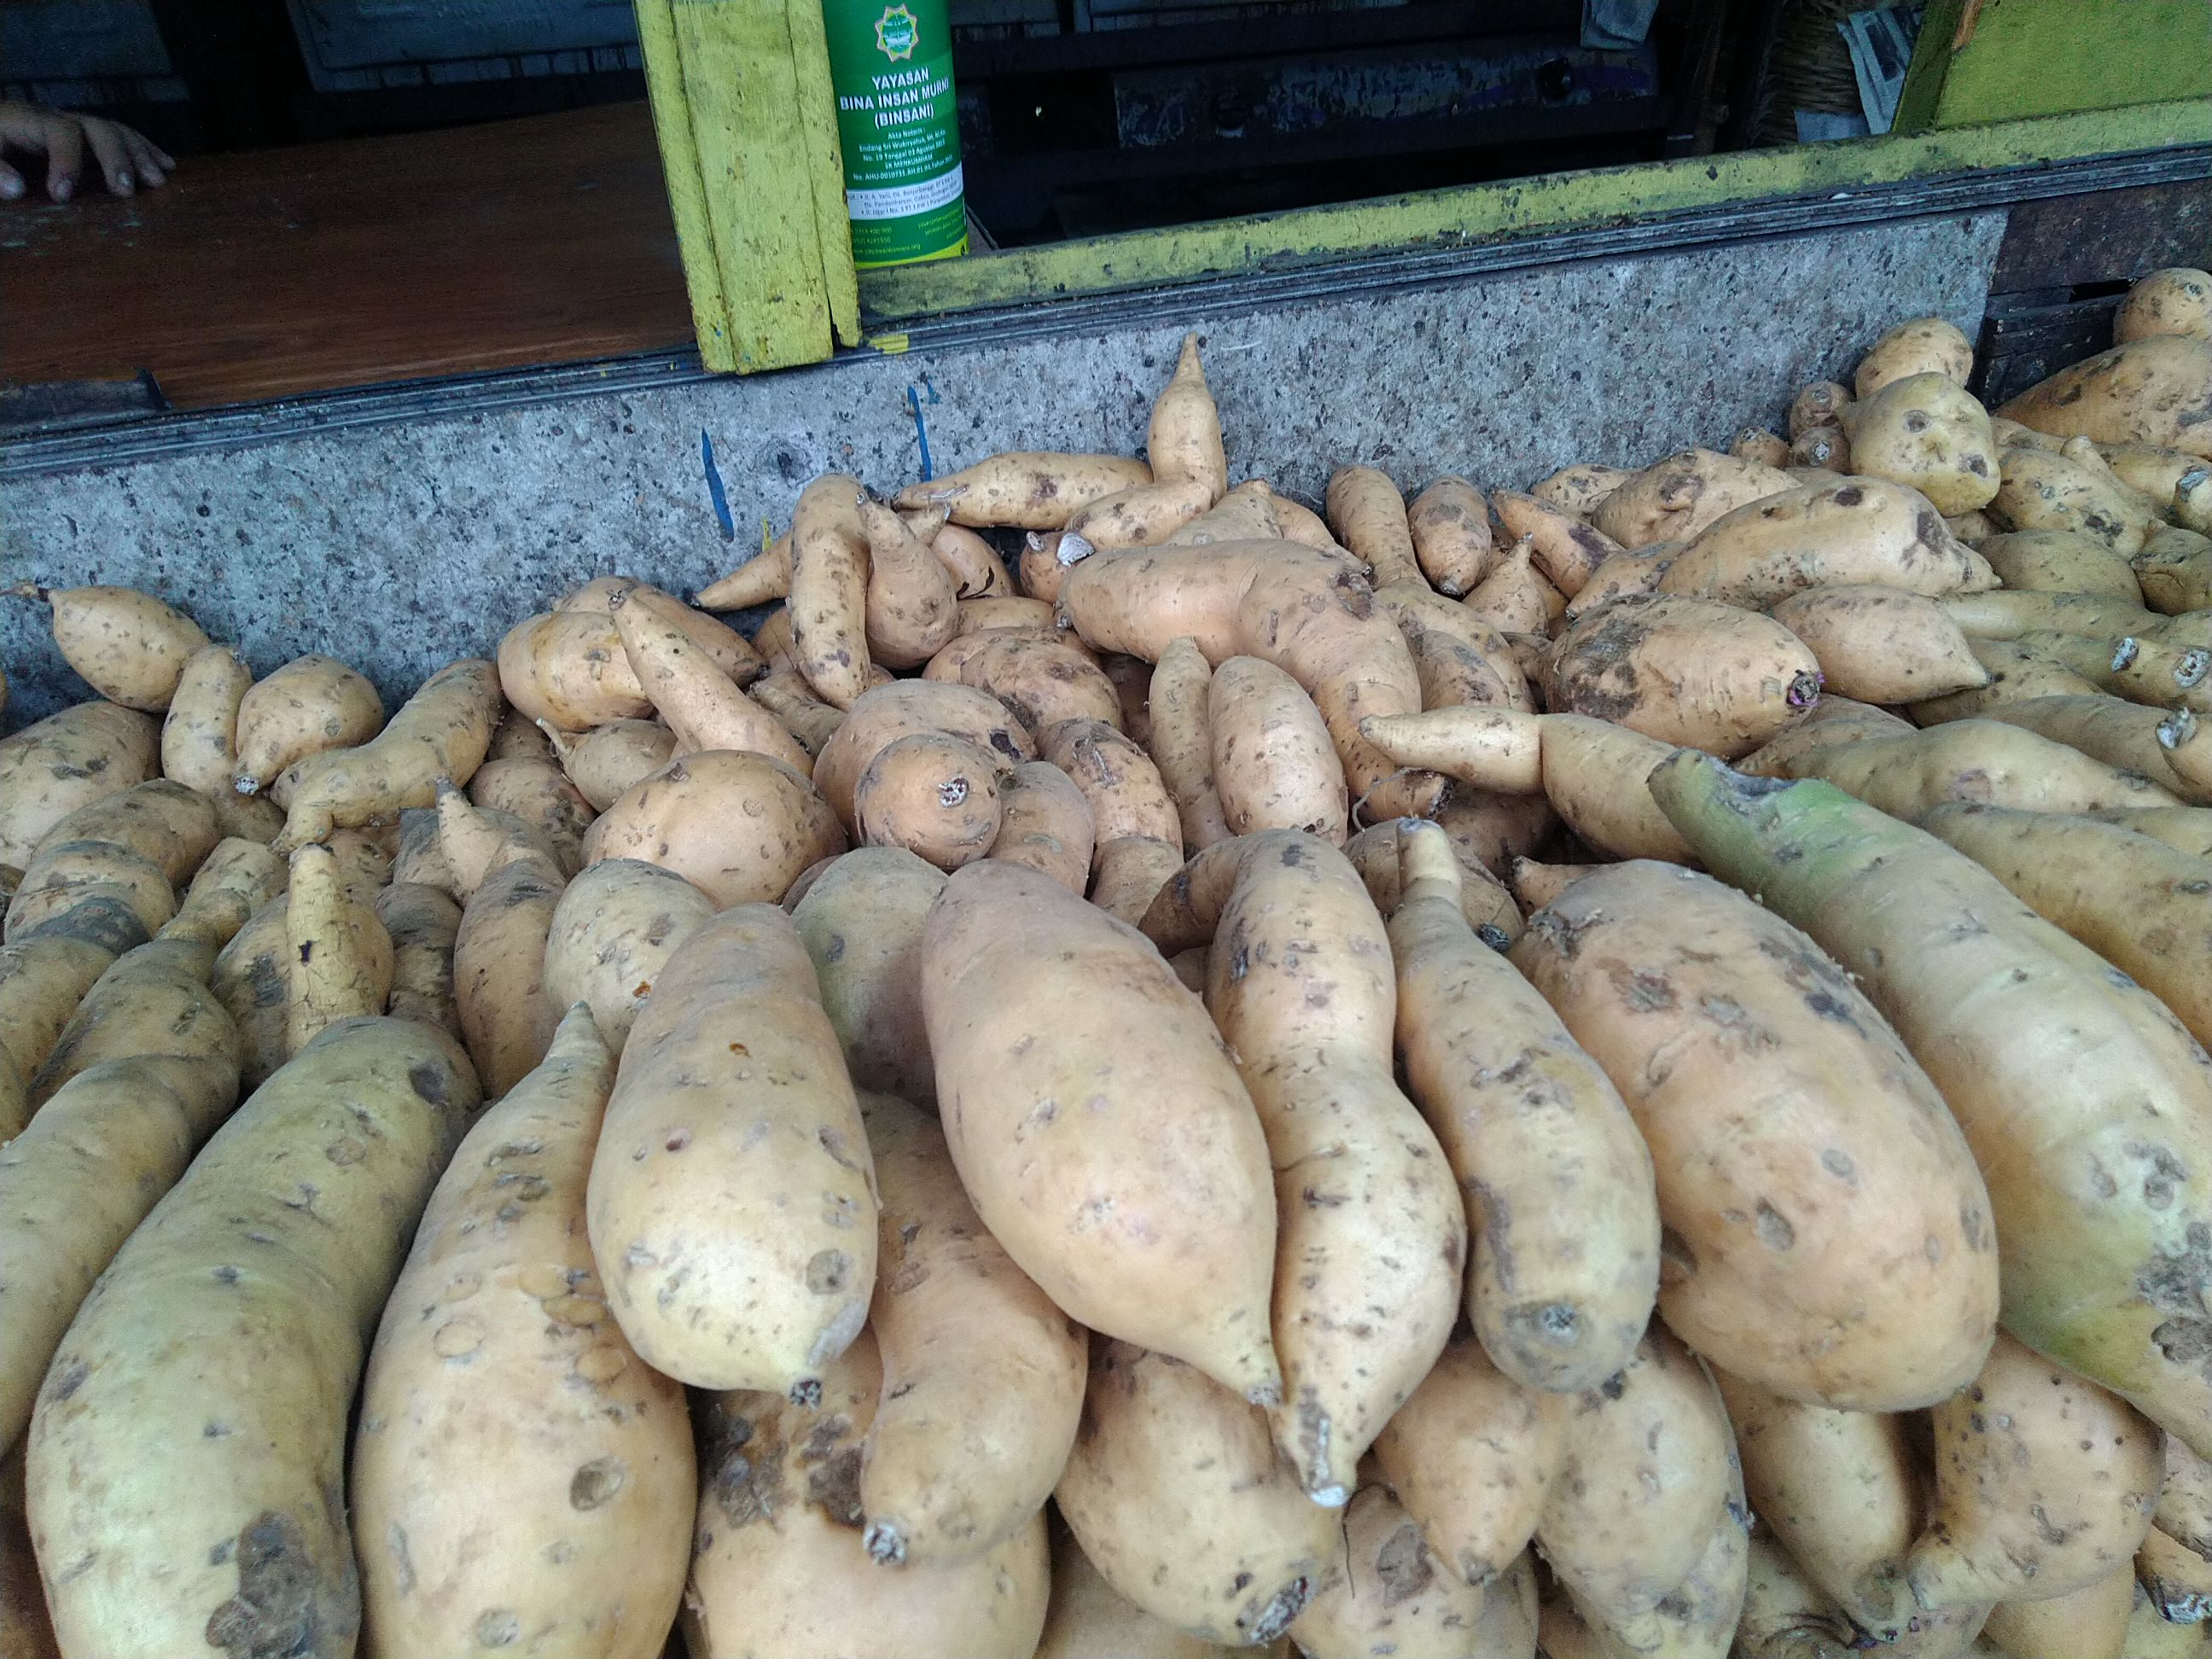ubi cilembu: (7, 542, 2212, 1640), (1639, 746, 2212, 1370), (916, 847, 1285, 1410), (1212, 823, 1463, 1525), (590, 887, 885, 1406), (1611, 469, 2005, 643), (770, 474, 944, 702), (223, 647, 385, 810)
